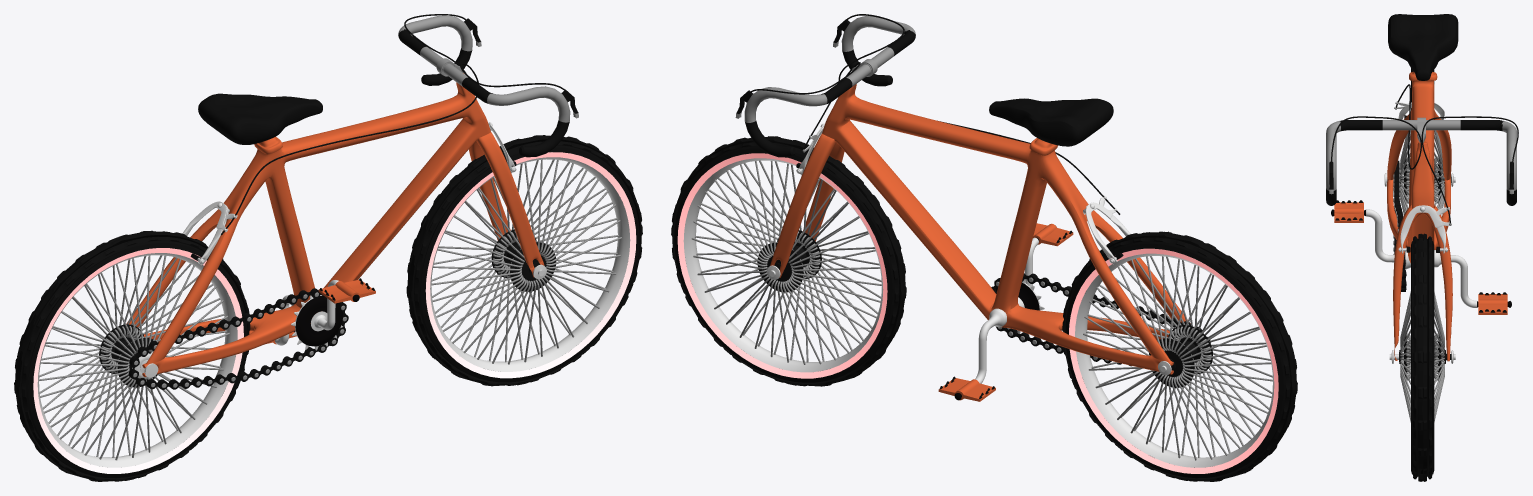
Rendered from bicycle-transformed.glb.
3 views of the same model, side by side, from view 1: azimuth 30°, elevation 25°; view 2: azimuth 150°, elevation 25°; view 3: azimuth 270°, elevation 25° (orthographic). The views are drawn at different scales.
Parts seen in each view (by area): view 1: Bike, B_Pneu; view 2: Bike, B_Pneu; view 3: Bike.
Boxes of the visible parts, x1=… form: Bike: x1=14, y1=14, x2=642, y2=481; B_Pneu: x1=33, y1=152, x2=636, y2=473; Bike: x1=671, y1=14, x2=1297, y2=481; B_Pneu: x1=677, y1=153, x2=1278, y2=473; Bike: x1=1326, y1=14, x2=1518, y2=481.
Bounding box in the file's own units: 4.7 × 2.5 × 1.36.
Materials: 2 (2 with a texture image).
